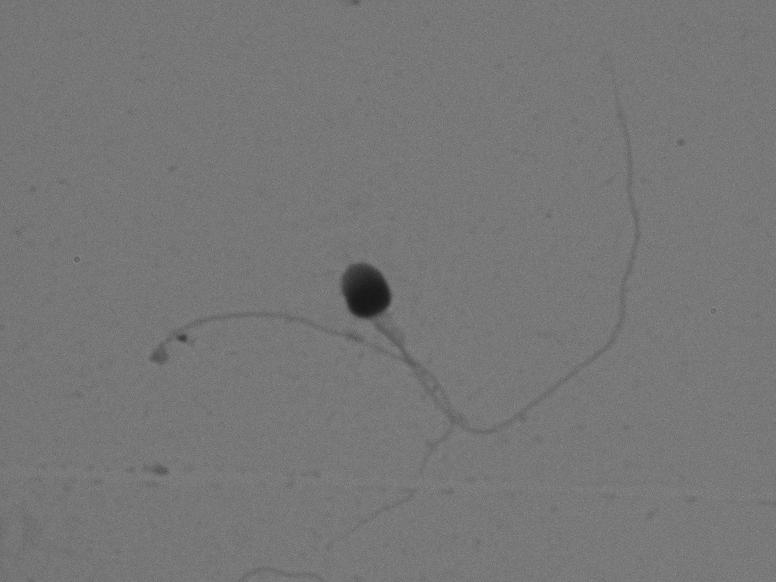Abnormal: (321, 43, 686, 478), (103, 285, 488, 559)
